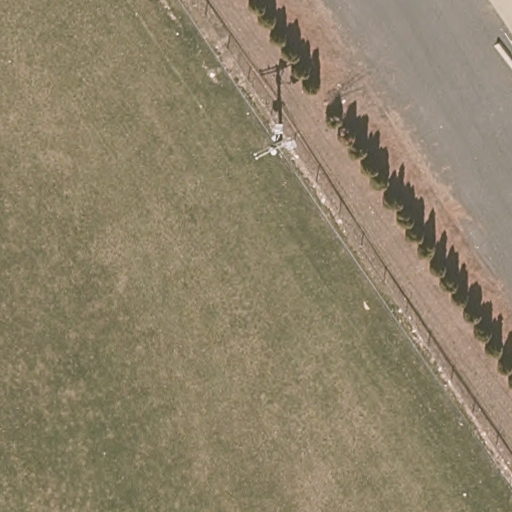DT: (251, 136, 299, 164)
